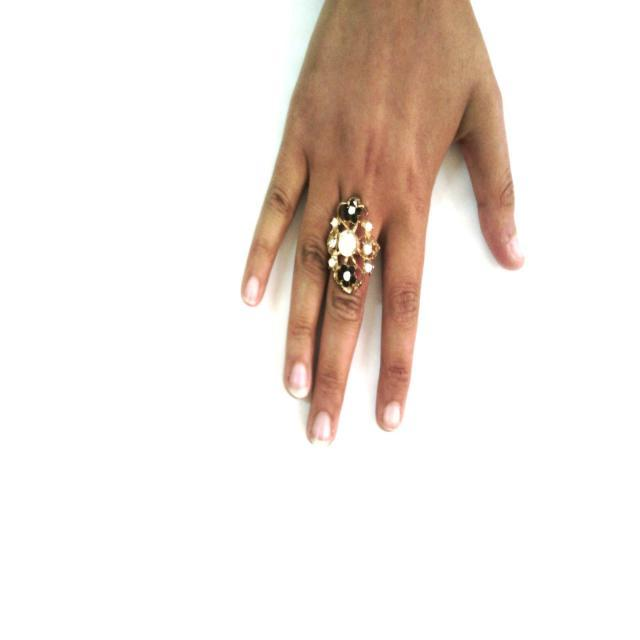Fingernail: (289, 361, 308, 397), (311, 411, 331, 444), (383, 402, 400, 429), (244, 278, 259, 304), (510, 237, 524, 259)
